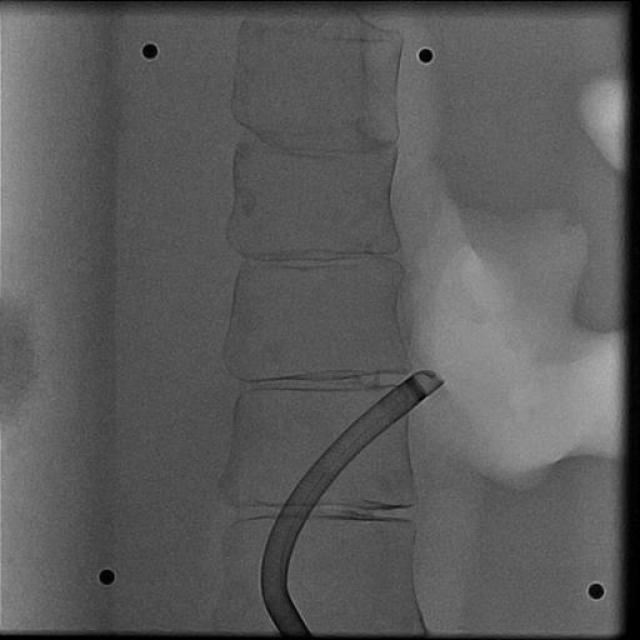bend: (260, 577, 288, 595)
entry: (279, 626, 311, 632)
marker: (403, 377, 428, 403)
tip: (422, 368, 446, 388)
